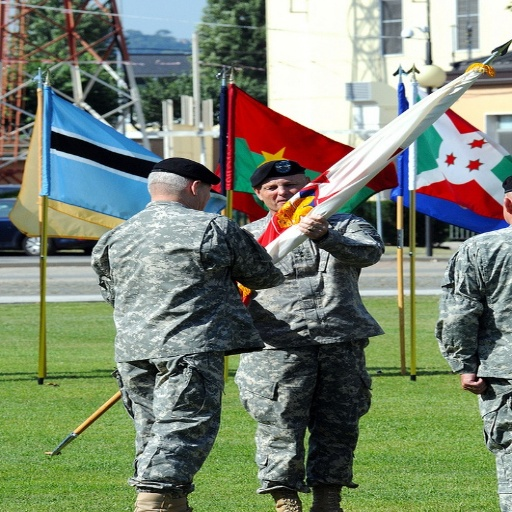hand: (298, 211, 328, 237)
